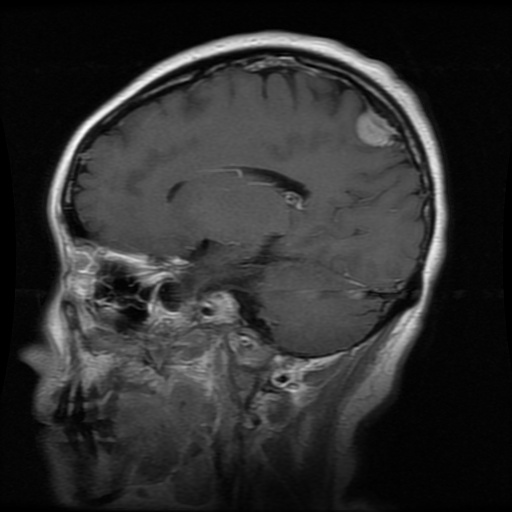meningioma: (354, 110, 397, 145)
